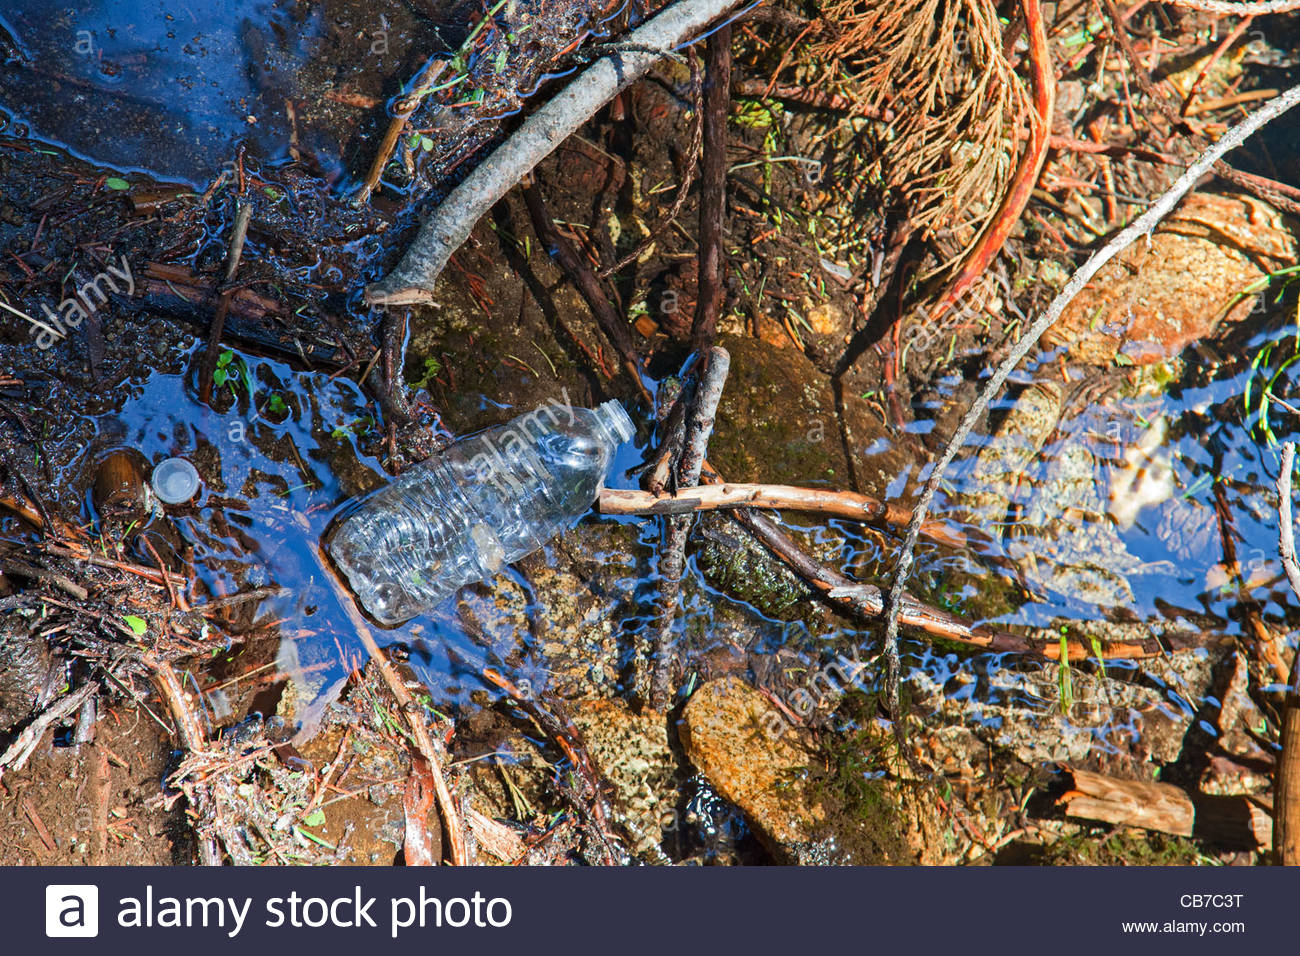bottle: (329, 404, 631, 625)
